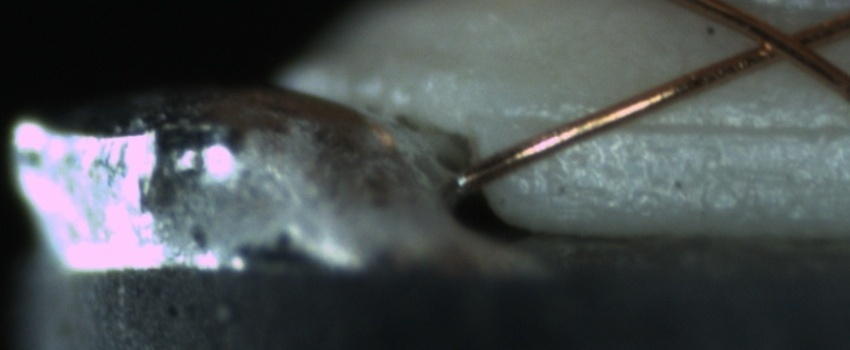CL: (737, 12, 837, 72)
DL: (519, 94, 845, 157)
